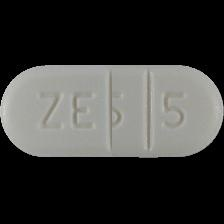68788-9766: (0, 0, 224, 224)
